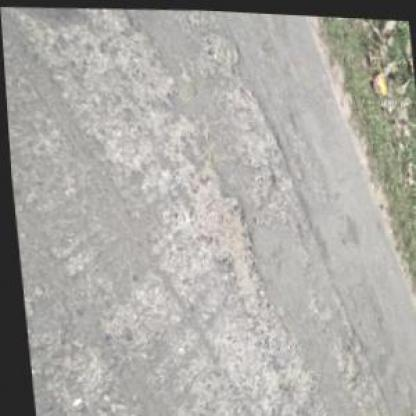pothole: (193, 178, 265, 320), (228, 78, 292, 198), (198, 28, 240, 68)
